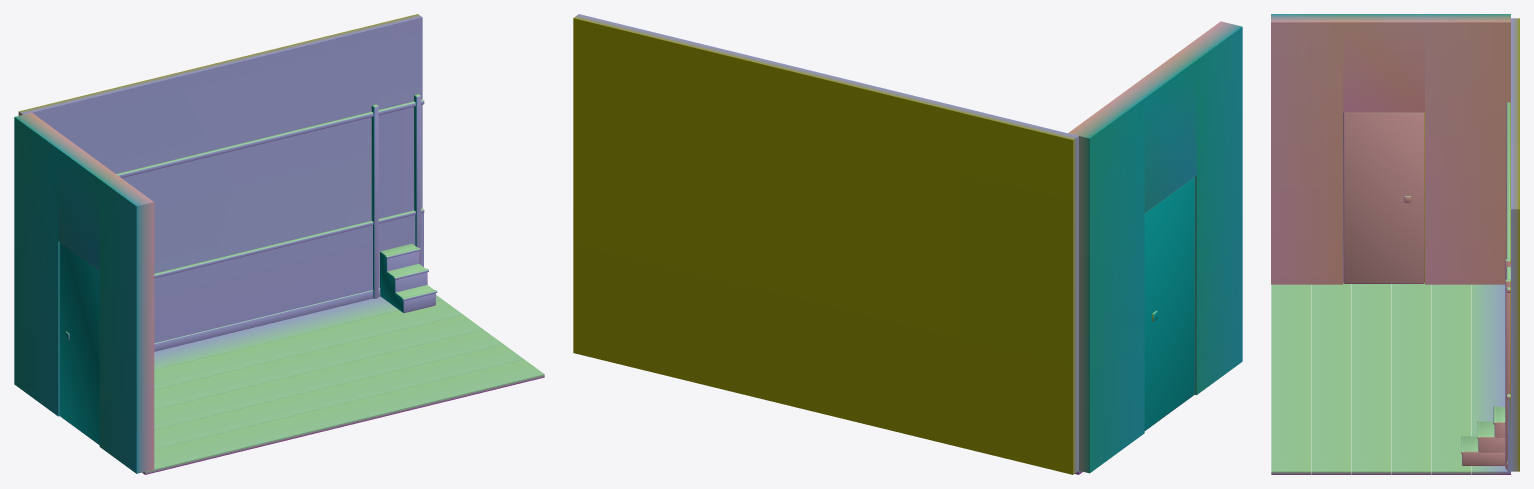
The model's file is hall_arch.glb.
3 views of the same model, side by side, from view 1: azimuth 30°, elevation 25°; view 2: azimuth 150°, elevation 25°; view 3: azimuth 270°, elevation 25° (orthographic). The views are drawn at different scales.
Visible parts, largest first — view 1: hall_arch, leaf; view 2: hall_arch, leaf; view 3: hall_arch, leaf.
Part boxes in pixels (left/top/right/bottom): hall_arch: left=14, top=14, right=544, bottom=474; leaf: left=59, top=242, right=99, bottom=444; hall_arch: left=573, top=14, right=1242, bottom=474; leaf: left=1144, top=177, right=1194, bottom=430; hall_arch: left=1271, top=14, right=1519, bottom=474; leaf: left=1343, top=112, right=1424, bottom=283.
Size of the model in its own units: 5.11 by 3.24 by 2.75.
